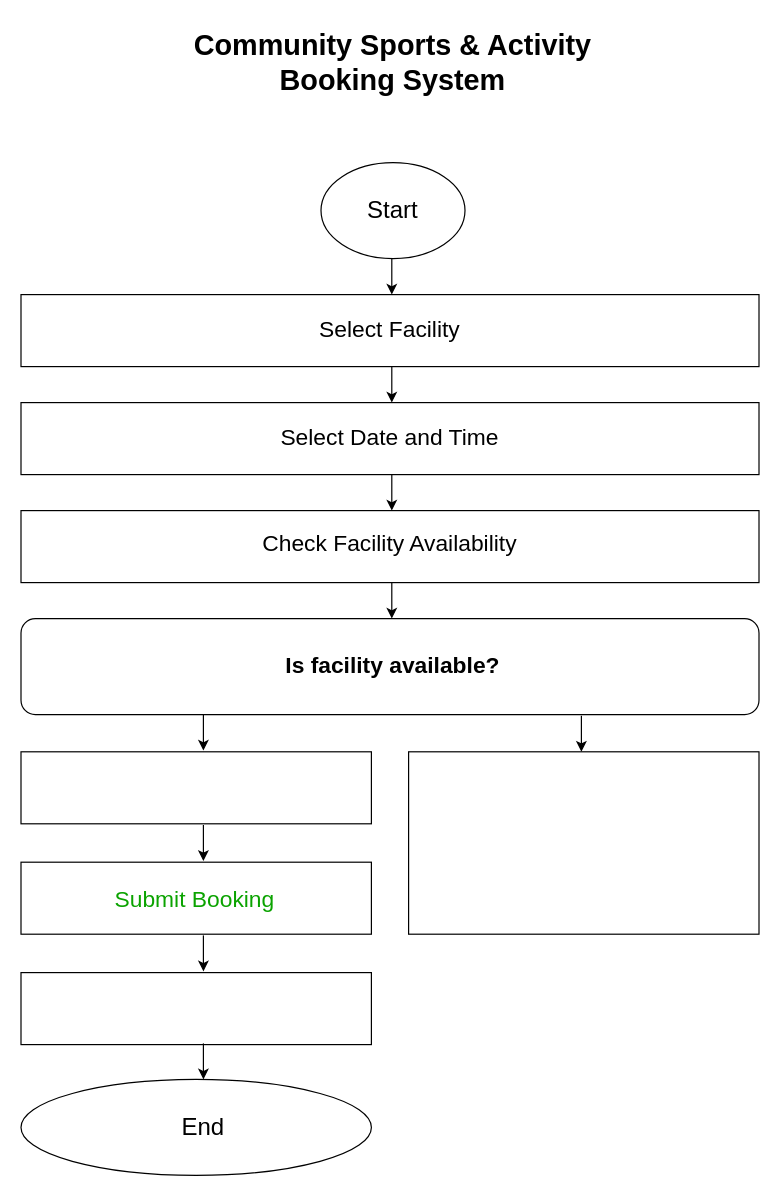
Some shapes in this 780 by 1196 pixel diagram are drawn without their labels. The centre of each missing label's shape, as x and y in pixels:
Booking Recorded: [195,1008]
Enter Booking Details: [195,787]
UNKNOWN What happens if the facility is unavailable?: [583,842]
